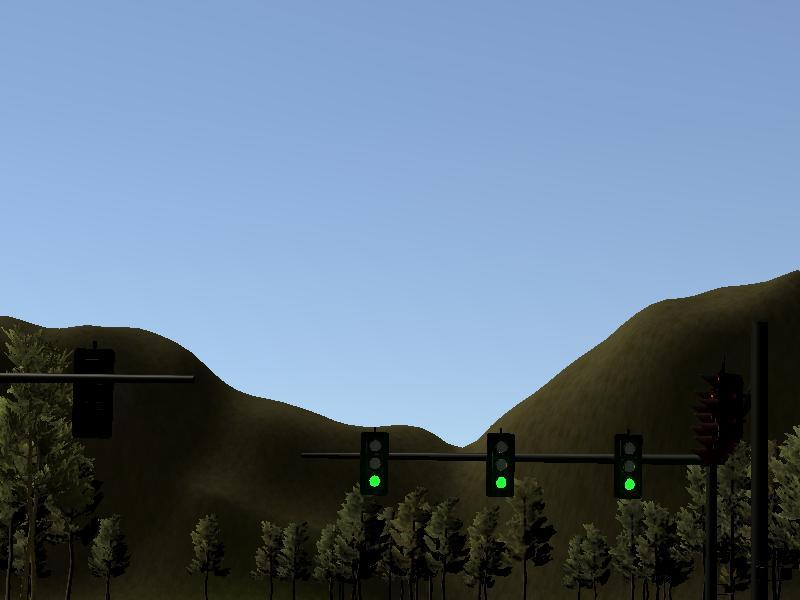Green: (488, 433, 513, 495), (618, 431, 641, 497), (363, 434, 388, 491)
